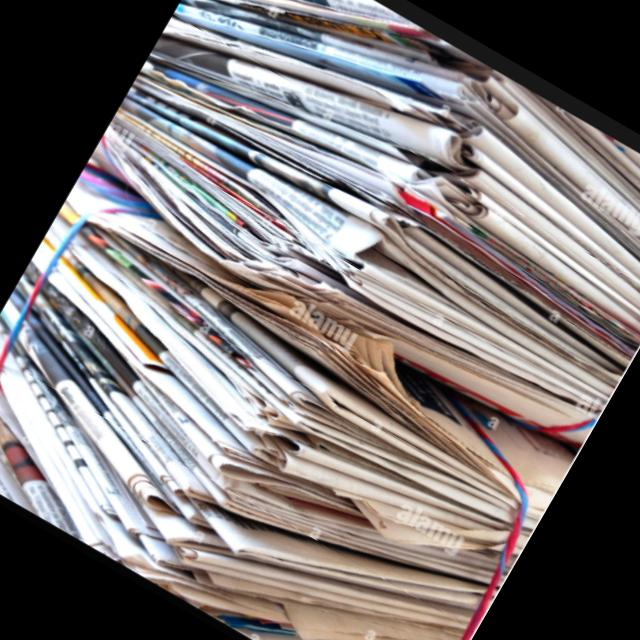Koran: (0, 0, 640, 640), (75, 0, 640, 467)
